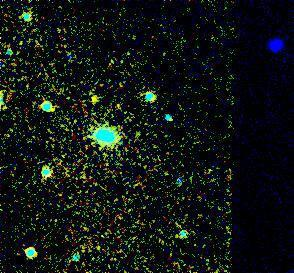star: (81, 84, 111, 114)
